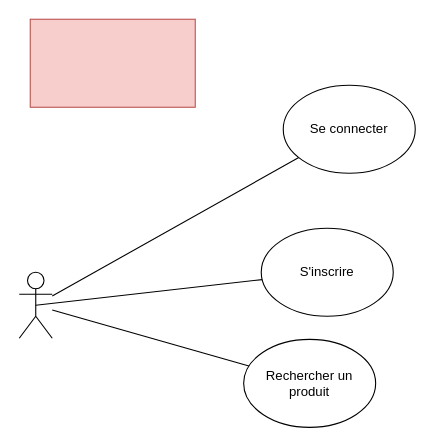
This 435x447 diagram has some shape labels left out. The shapes that lost their labels are listed below. From the top down, each one's centre as x and y in pixels, then its label:
point (112, 62): USE CASE
point (35, 304): Client
